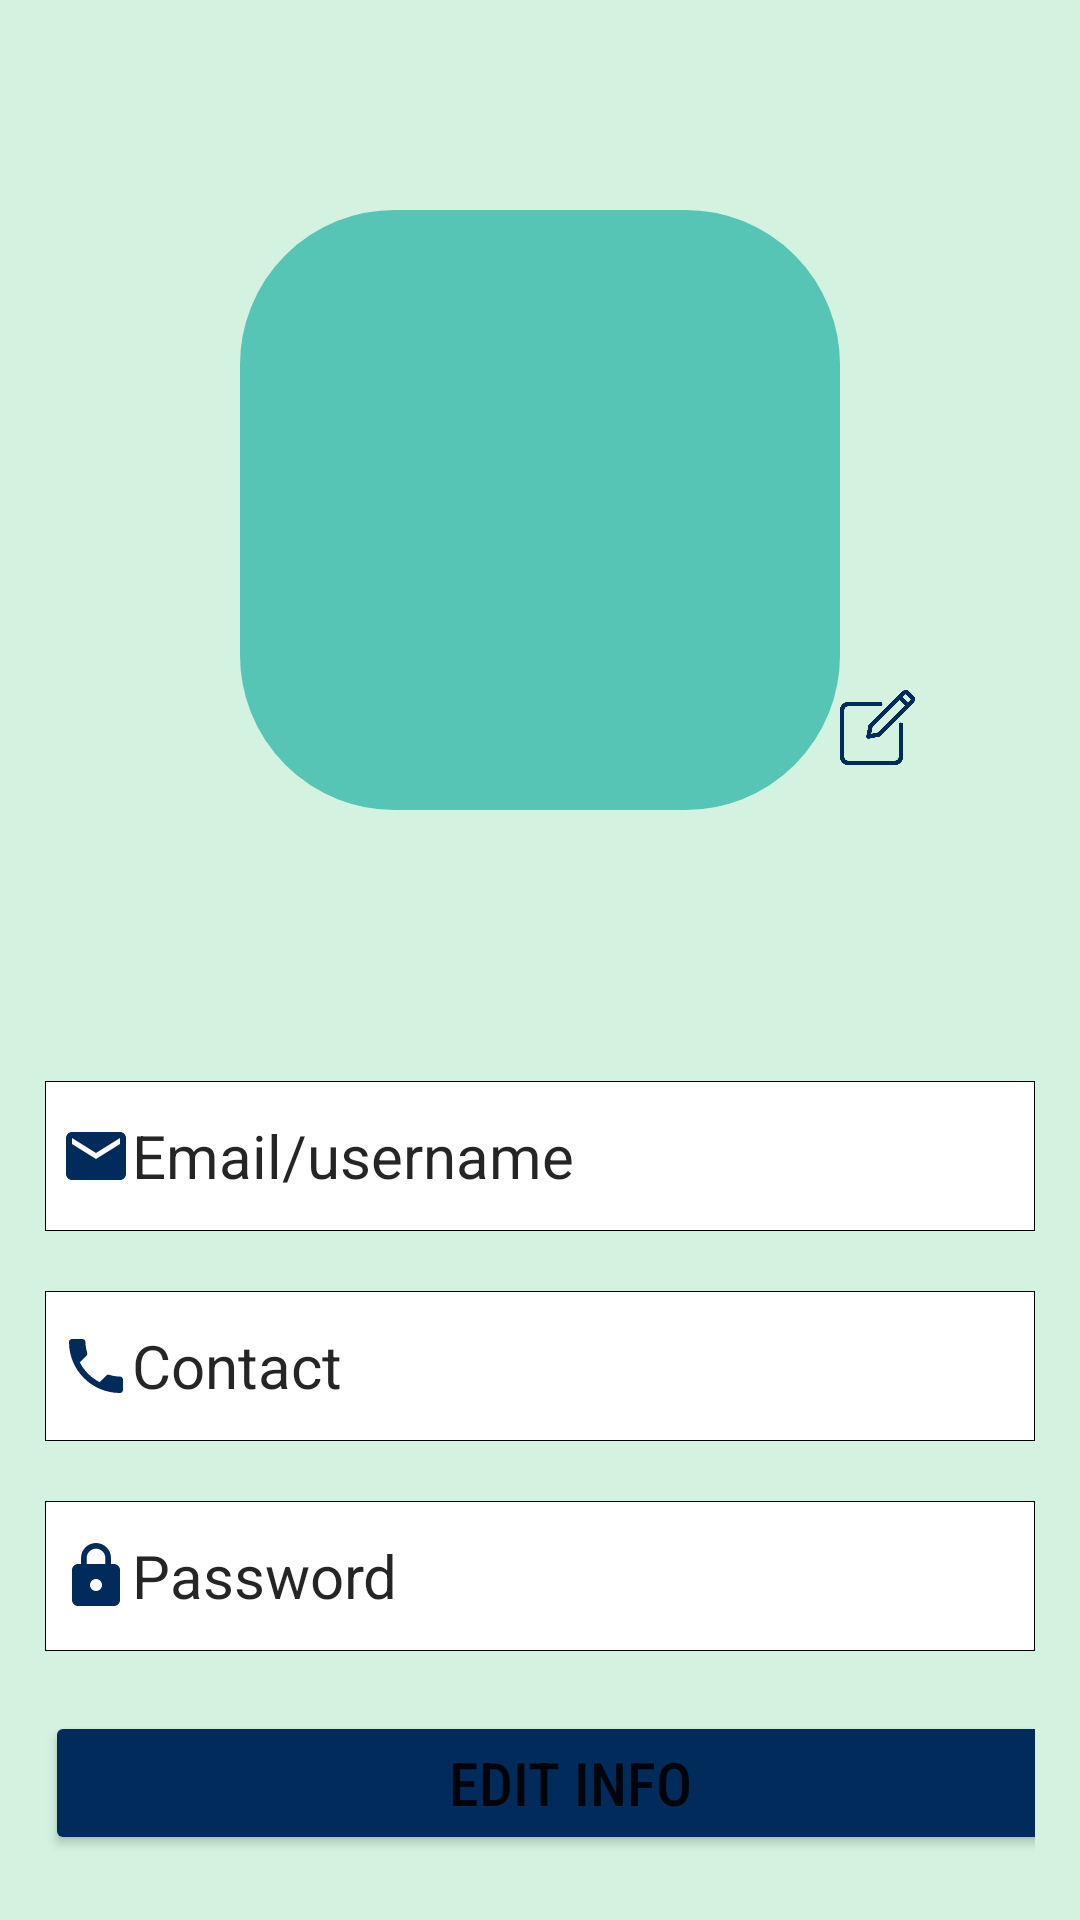

Locate icon controls on the screen. Image size 1080w x 1920h, boxes as (x1, y1, x2, y2).
editing: (840, 690, 915, 765)
